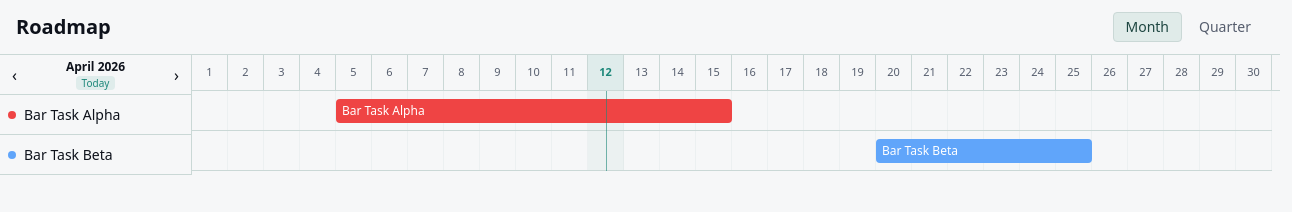
it: RoadmapPage › view toggle switches between month and quarter
Expected: the button "Month" is shown, [1112,12,1182,42]
Expected: the text "April 2026" is shown, [66,59,125,74]
Note: Switch to quarter view
Click the button "Quarter" at x=1225, y=27, box [1186,12,1264,42]
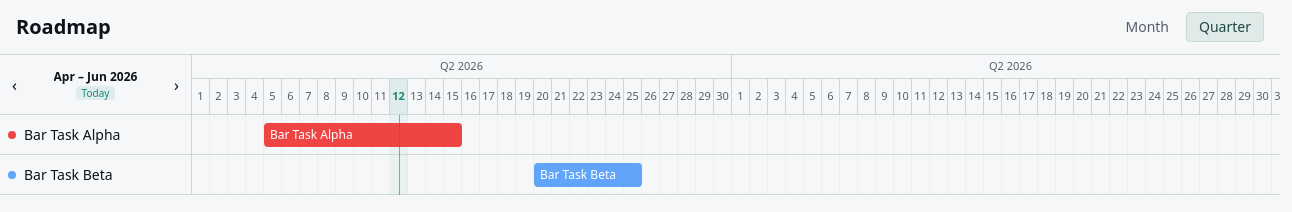
Expected: the button "Bar Task Alpha" is shown, [264,122,462,146]
Expected: the text "April 2026" is gone
Note: Switch back to month view — bar dimensions restore to original values
Click the button "Month" at x=1147, y=27, box [1112,12,1182,42]
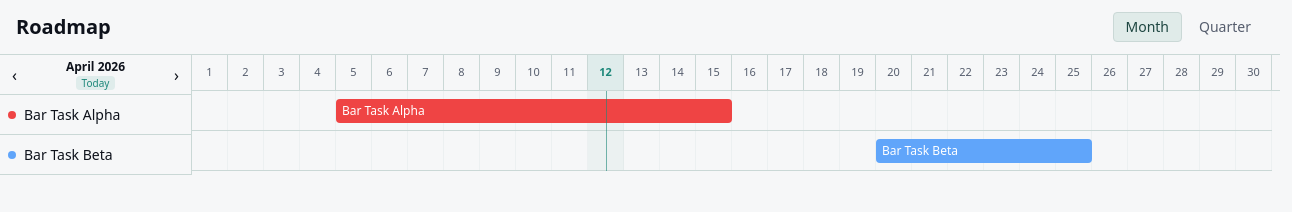
Expected: the text "April 2026" is shown, [66,59,125,74]
